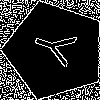Y: (30, 25, 87, 71)
